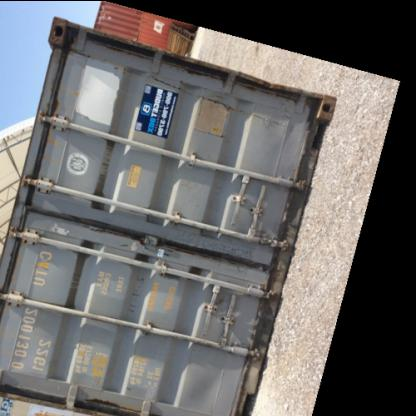Damage: (22, 97, 66, 207), (256, 214, 286, 331), (152, 82, 250, 114), (82, 386, 134, 413), (97, 134, 121, 189), (122, 274, 146, 316), (50, 22, 80, 52)
